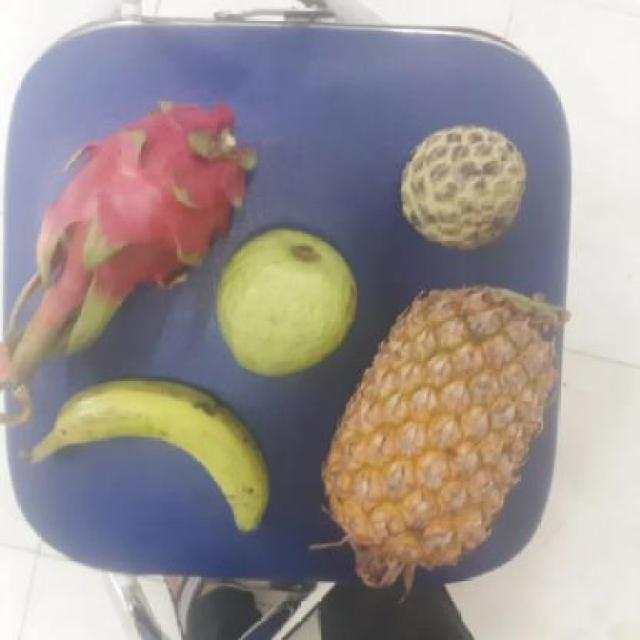banana: (24, 375, 267, 533)
dragon fruit: (34, 98, 248, 296)
guava: (208, 226, 357, 372)
pineapple: (321, 290, 557, 585)
sugar apple: (394, 125, 528, 249)
